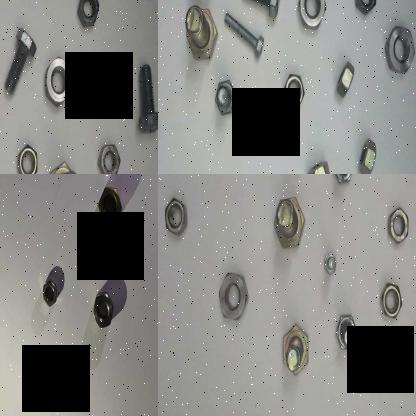Bolts: (0, 16, 37, 94), (179, 0, 221, 63), (129, 58, 158, 145), (222, 7, 268, 60), (270, 196, 308, 254), (281, 324, 313, 382), (209, 75, 241, 119), (237, 0, 287, 21), (334, 314, 360, 354), (39, 159, 85, 174), (320, 244, 338, 280), (330, 174, 357, 194)
NUTS: (214, 259, 252, 329), (380, 18, 416, 82), (42, 53, 74, 111), (372, 271, 404, 323), (164, 184, 190, 240), (349, 131, 381, 174), (327, 60, 358, 104), (294, 0, 330, 37), (96, 184, 124, 230), (279, 70, 308, 114), (385, 204, 413, 243), (73, 0, 105, 33), (12, 140, 42, 174), (92, 290, 116, 331), (94, 143, 122, 174), (40, 278, 58, 310), (304, 155, 332, 174), (349, 0, 381, 16)
